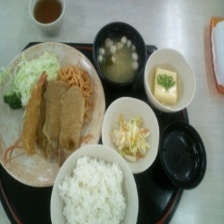rice: (58, 153, 127, 224)
